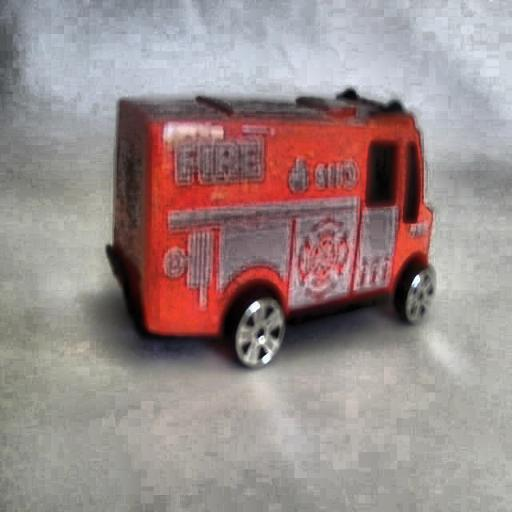fire_truck: (104, 90, 435, 367), (112, 106, 152, 282)
